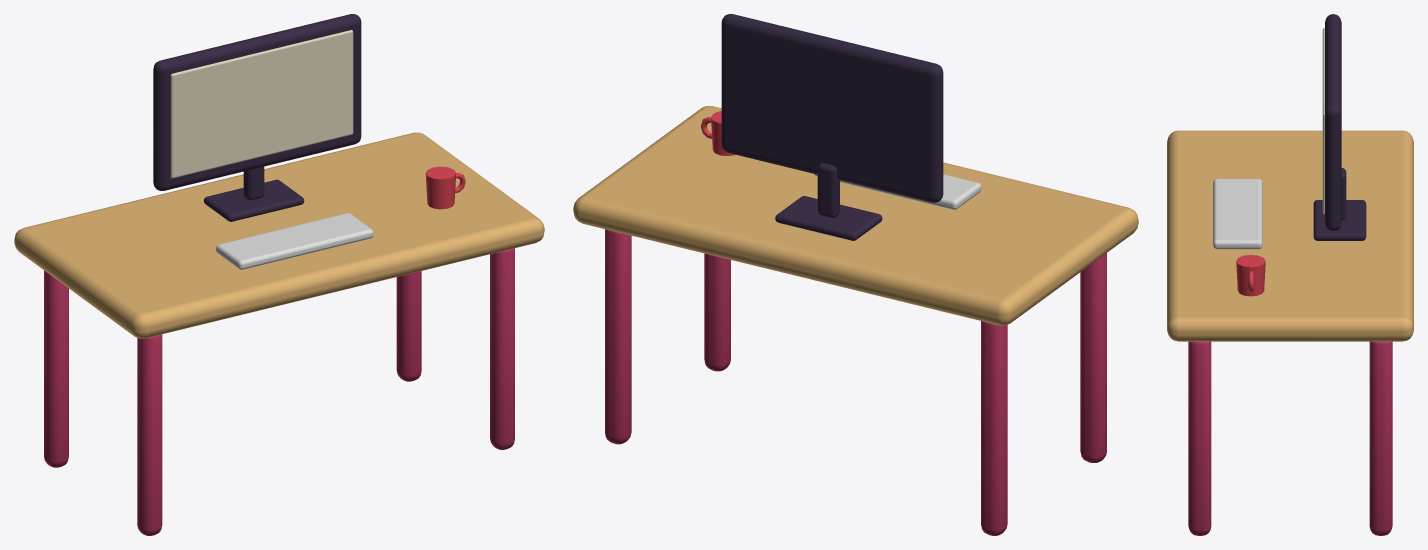
The model's file is desk.glb.
The picture shows the model from 3 angles, left to right: view 1: azimuth 30°, elevation 25°; view 2: azimuth 150°, elevation 25°; view 3: azimuth 270°, elevation 25°; orthographic projection. The views are drawn at different scales.
Visible parts, largest first — view 1: desk; view 2: desk; view 3: desk.
Part boxes in pixels (x1,y1,x2,y2): desk: (14, 14, 544, 535); desk: (573, 14, 1138, 535); desk: (1167, 14, 1413, 535).
Size of the model in its own units: 1.4 by 1.31 by 0.75.
